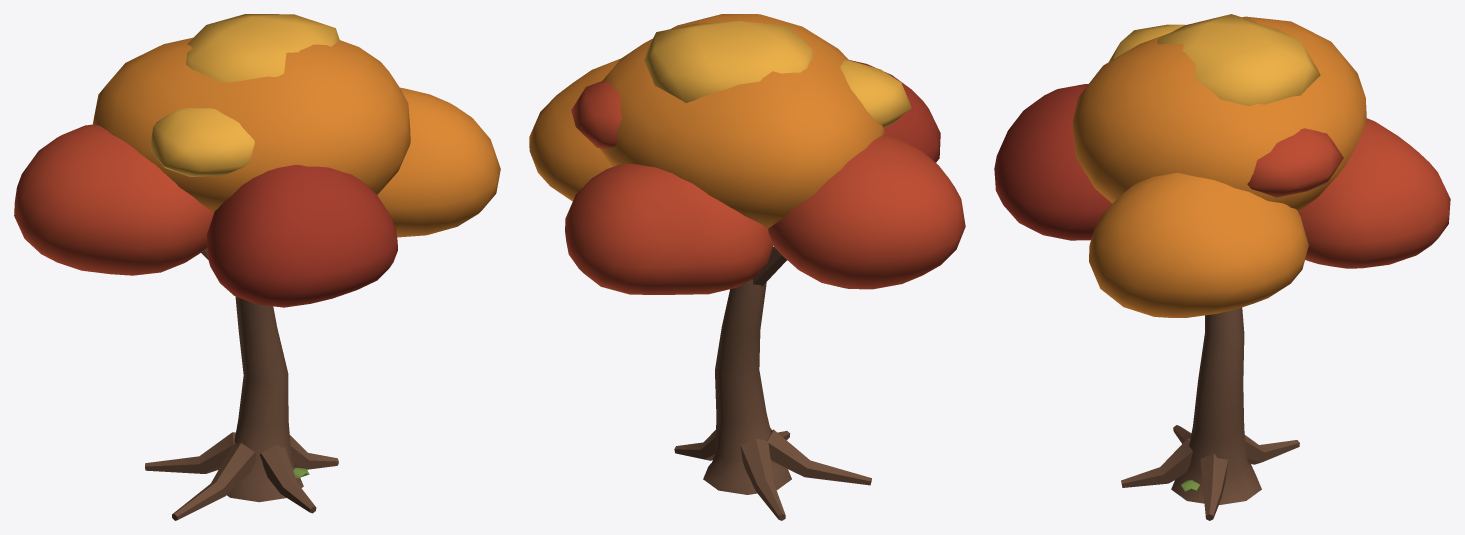
File: maple_small.glb
The picture shows the model from 3 angles, left to right: view 1: azimuth 30°, elevation 25°; view 2: azimuth 150°, elevation 25°; view 3: azimuth 270°, elevation 25°; orthographic projection. The views are drawn at different scales.
Visible parts, largest first — view 1: foliage, trunk; view 2: foliage, trunk; view 3: foliage, trunk.
Part boxes in pixels (x1,y1,x2,y2): foliage: (14, 14, 500, 307); trunk: (145, 248, 338, 520); foliage: (529, 14, 965, 294); trunk: (674, 246, 871, 520); foliage: (994, 14, 1450, 317); trunk: (1121, 307, 1299, 520).
Size of what is drawn, in the model's own units: 5.12 by 4.97 by 4.55.
